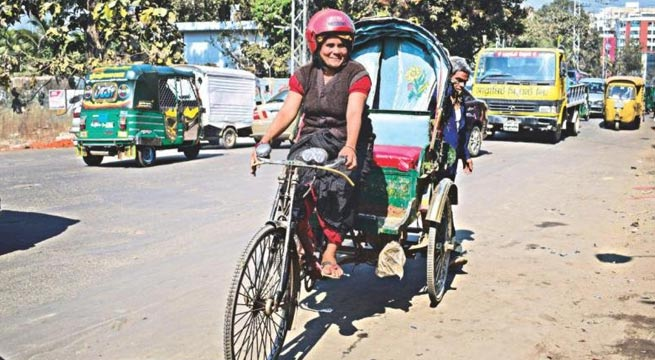Rickshaw: (231, 14, 458, 356)
